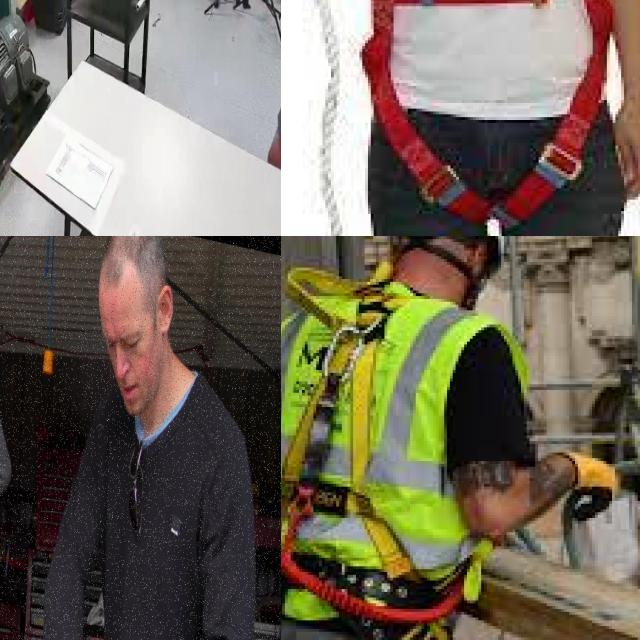Harness: (281, 252, 484, 640), (362, 0, 615, 229)
No_Ear-Protection: (157, 283, 173, 335)
No_Glasses: (105, 325, 145, 353)
face_nomask: (111, 347, 156, 416)
head_nohelmet: (102, 236, 168, 313)
